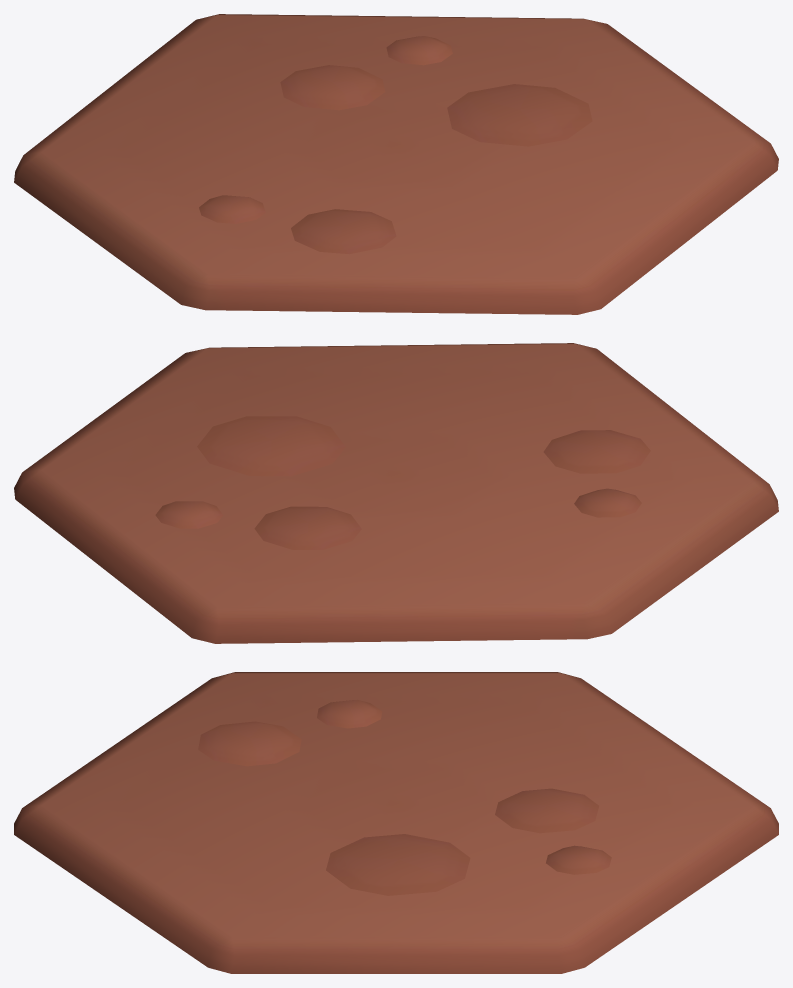
The model's file is kaykit-medieval-hexagon-pack-building-dirt.glb.
3 renders of one model, top to bottom at view 1: azimuth 30°, elevation 25°; view 2: azimuth 150°, elevation 25°; view 3: azimuth 270°, elevation 25°, orthographic.
Visible parts, largest first — view 1: building_dirt; view 2: building_dirt; view 3: building_dirt.
Part boxes in pixels (box(x1,y1,x2,y2)): building_dirt: box(14, 14, 778, 314); building_dirt: box(14, 343, 778, 643); building_dirt: box(14, 672, 778, 973).
Bounding box in the file's own units: 1.79 × 0.0865 × 2.01.
Materials: 1 (1 with a texture image).
